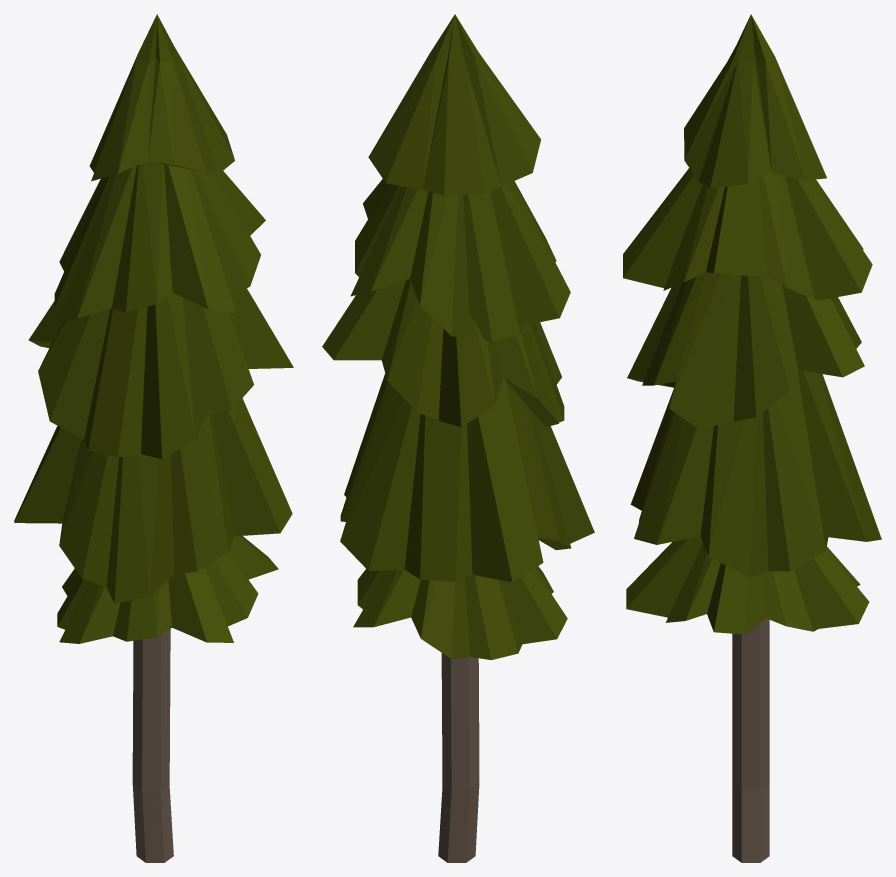
The model's file is tree_0205.dae.
3 renders of one model, left to right at view 1: azimuth 30°, elevation 25°; view 2: azimuth 150°, elevation 25°; view 3: azimuth 270°, elevation 25°, orthographic.
Parts seen in each view (by area): view 1: tree_0205; view 2: tree_0205; view 3: tree_0205.
Boxes of the visible parts, <box> form: tree_0205: <box>14,14,293,862</box>; tree_0205: <box>322,14,594,862</box>; tree_0205: <box>623,14,881,862</box>.
Size of the model in its own units: 1.9 by 1.87 by 6.73.
